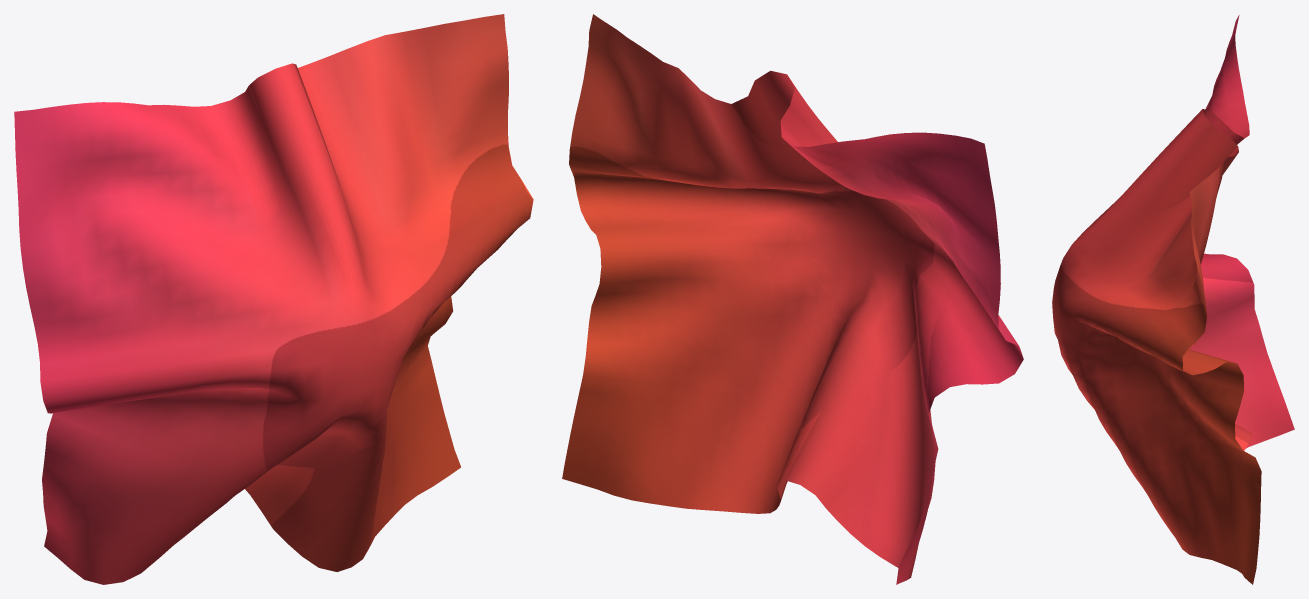
3 views of the same model, side by side, from view 1: azimuth 30°, elevation 25°; view 2: azimuth 150°, elevation 25°; view 3: azimuth 270°, elevation 25° (orthographic). The views are drawn at different scales.
Visible parts, largest first — view 1: Mesh; view 2: Mesh; view 3: Mesh.
Boxes of the visible parts, x1,y1,x2,y2 form: Mesh: [14, 14, 533, 584]; Mesh: [562, 14, 1023, 584]; Mesh: [1052, 15, 1294, 584].
Size of the model in its own units: 5.26 by 5.23 by 2.74.
Materials: 1 (1 with a texture image).
